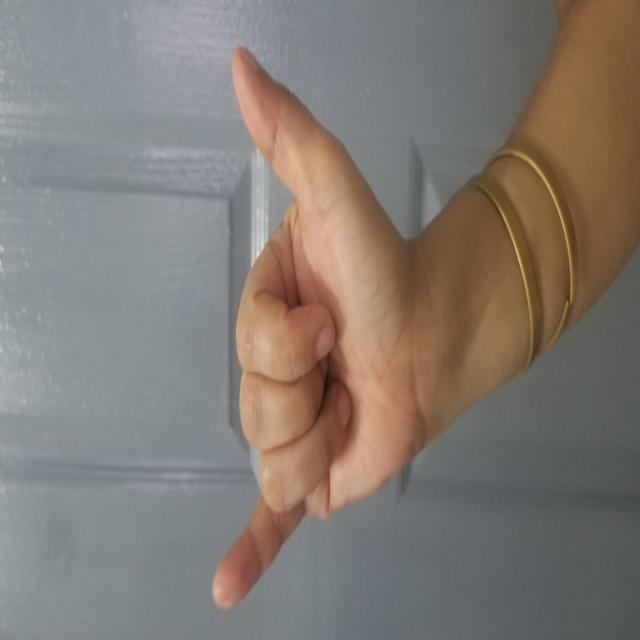Y: (180, 32, 419, 618)
